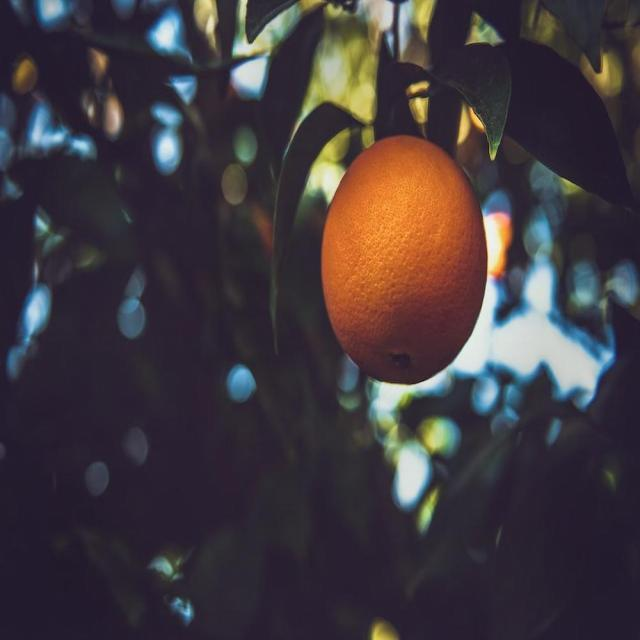Jeruk Sudah Matang: (320, 132, 488, 386)
